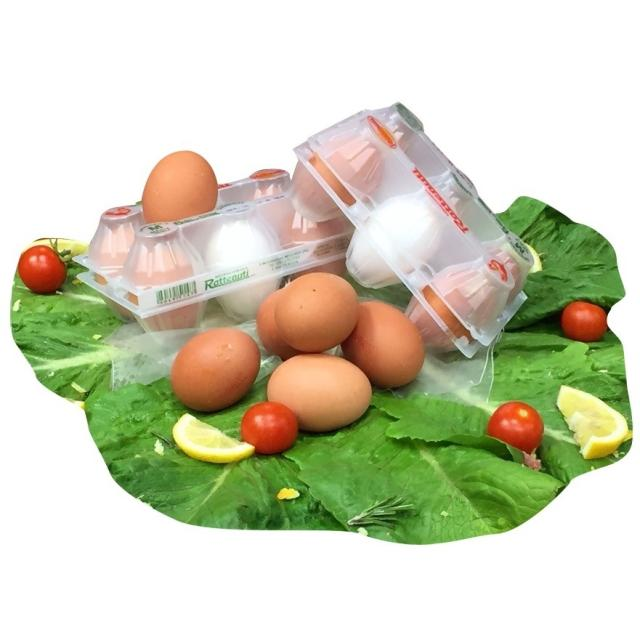Egg: (270, 275, 403, 406), (170, 323, 261, 408), (139, 146, 218, 218)
